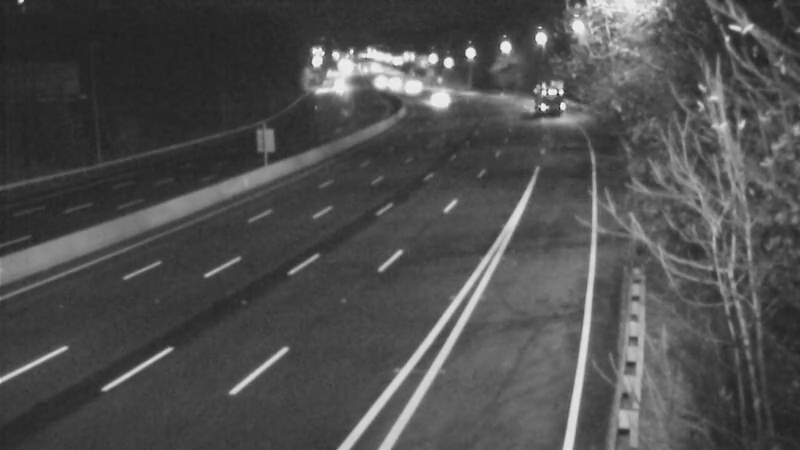vehicle: (351, 57, 401, 107), (387, 59, 437, 109), (514, 71, 564, 121), (411, 74, 461, 124)
